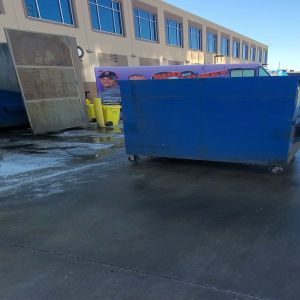Dumpster: (115, 79, 300, 176)
